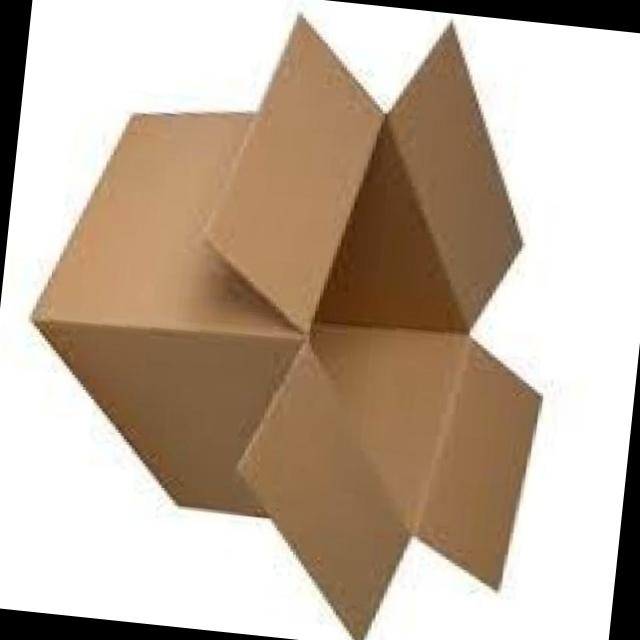cardboard paper: (36, 16, 542, 639)
